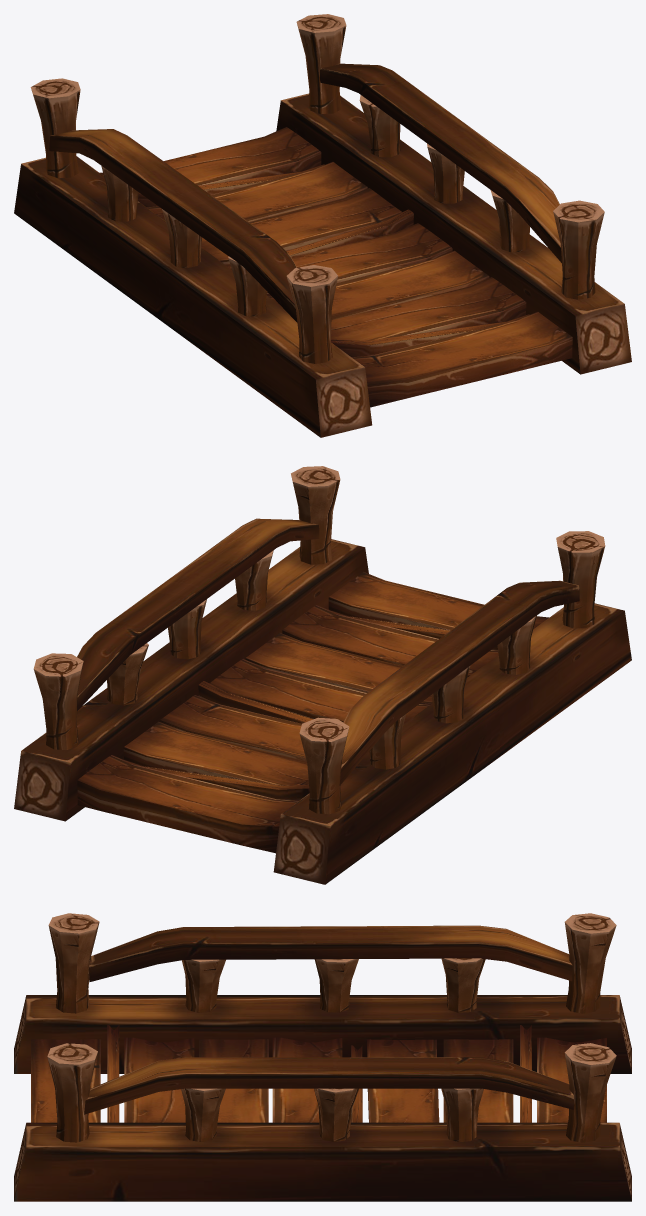
File: Global_Bridge_5.fbx
The picture shows the model from 3 angles, top to bottom: view 1: azimuth 30°, elevation 25°; view 2: azimuth 150°, elevation 25°; view 3: azimuth 270°, elevation 25°; orthographic projection.
Visible parts, largest first — view 1: pCube309, pCube310, pCube312, pCube311, WoodBridge1_Piece43, WoodBridge1_Piece33, WoodBridge1_Piece39, WoodBridge1_Piece38, WoodBridge1_Piece35, WoodBridge1_Piece37, WoodBridge1_Piece32, WoodBridge1_Pole14 (+12 smaller); view 2: pCube309, pCube310, pCube312, WoodBridge1_Piece38, pCube311, WoodBridge1_Piece37, WoodBridge1_Piece43, WoodBridge1_Piece32, WoodBridge1_Piece33, WoodBridge1_Piece35, WoodBridge1_Piece39, WoodBridge1_Pole12 (+12 smaller); view 3: pCube310, pCube309, pCube312, pCube311, WoodBridge1_Piece35, WoodBridge1_Pole13, WoodBridge1_Pole15, WoodBridge1_Pole12, WoodBridge1_Pole14, WoodBridge1_Piece33, WoodBridge1_Piece39, WoodBridge1_Piece32 (+12 smaller).
Part boxes in pixels (<box>): pCube309: <box>14,156,372,437</box>; pCube310: <box>276,93,631,374</box>; pCube312: <box>49,129,297,322</box>; pCube311: <box>320,63,561,262</box>; WoodBridge1_Piece43: <box>352,312,572,407</box>; WoodBridge1_Piece33: <box>331,277,526,340</box>; WoodBridge1_Piece39: <box>268,250,489,319</box>; WoodBridge1_Piece38: <box>99,127,321,185</box>; WoodBridge1_Piece35: <box>201,188,401,266</box>; WoodBridge1_Piece37: <box>147,162,367,221</box>; WoodBridge1_Piece32: <box>231,223,452,296</box>; WoodBridge1_Pole14: <box>553,200,604,299</box>; pCube309: <box>273,603,631,884</box>; pCube310: <box>14,539,368,821</box>; pCube312: <box>339,580,579,785</box>; WoodBridge1_Piece38: <box>77,755,298,853</box>; pCube311: <box>77,518,319,710</box>; WoodBridge1_Piece37: <box>123,722,308,785</box>; WoodBridge1_Piece43: <box>328,572,549,630</box>; WoodBridge1_Piece32: <box>209,658,429,723</box>; WoodBridge1_Piece33: <box>282,605,498,677</box>; WoodBridge1_Piece35: <box>160,695,306,761</box>; WoodBridge1_Piece39: <box>245,633,432,704</box>; WoodBridge1_Pole12: <box>33,653,83,749</box>; pCube310: <box>14,1122,631,1201</box>; pCube309: <box>14,995,631,1073</box>; pCube312: <box>89,925,572,982</box>; pCube311: <box>84,1057,573,1114</box>; WoodBridge1_Piece35: <box>366,1039,439,1122</box>; WoodBridge1_Pole13: <box>564,913,616,1013</box>; WoodBridge1_Pole15: <box>48,913,99,1013</box>; WoodBridge1_Pole12: <box>564,1043,616,1142</box>; WoodBridge1_Pole14: <box>47,1043,97,1142</box>; WoodBridge1_Piece33: <box>124,1037,194,1122</box>; WoodBridge1_Piece39: <box>199,1039,268,1122</box>; WoodBridge1_Piece32: <box>272,1037,342,1122</box>.
Size of the model in its own units: 6.07 by 2.65 by 10.33.
